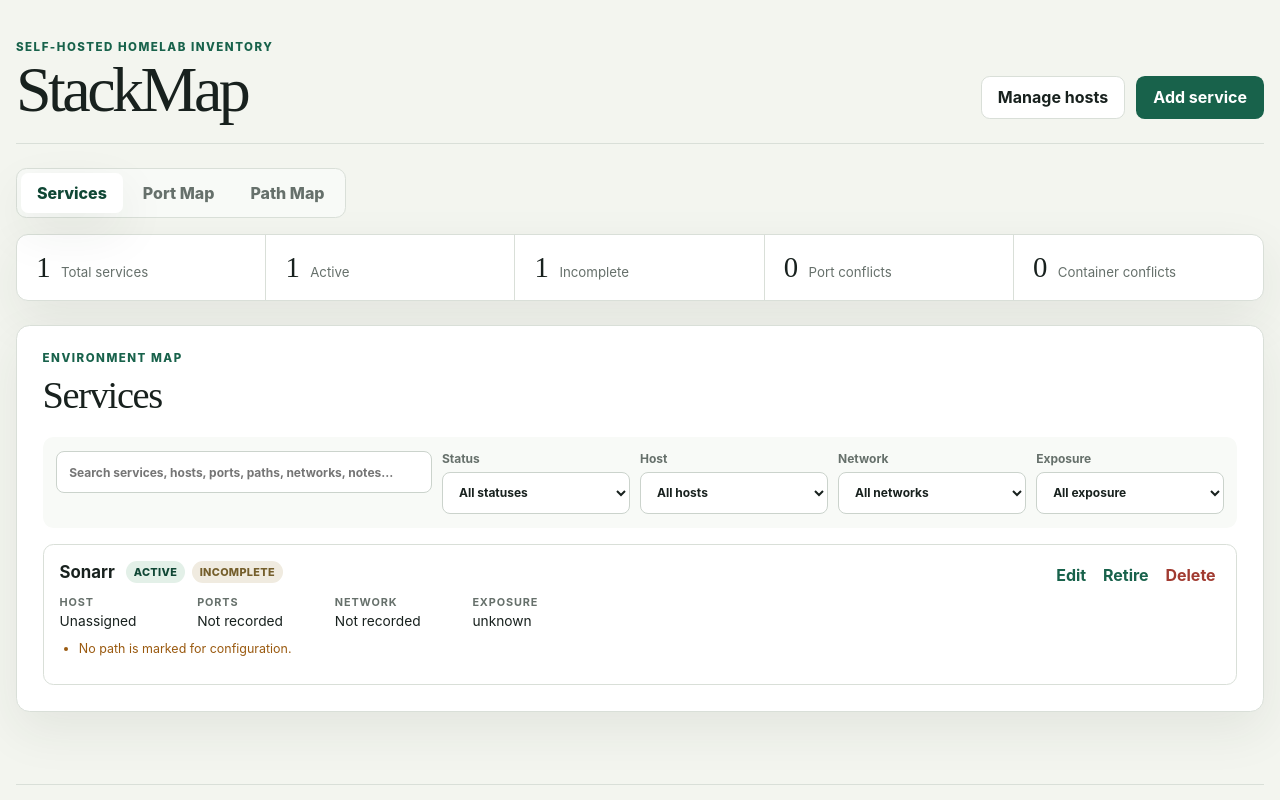
Test: StackMap service workflows › retires a service
This screenshot has width=1280, height=800.
Click the button with aria-label "Retire Sonarr" at (1126, 575), box [1098,560,1153,590]
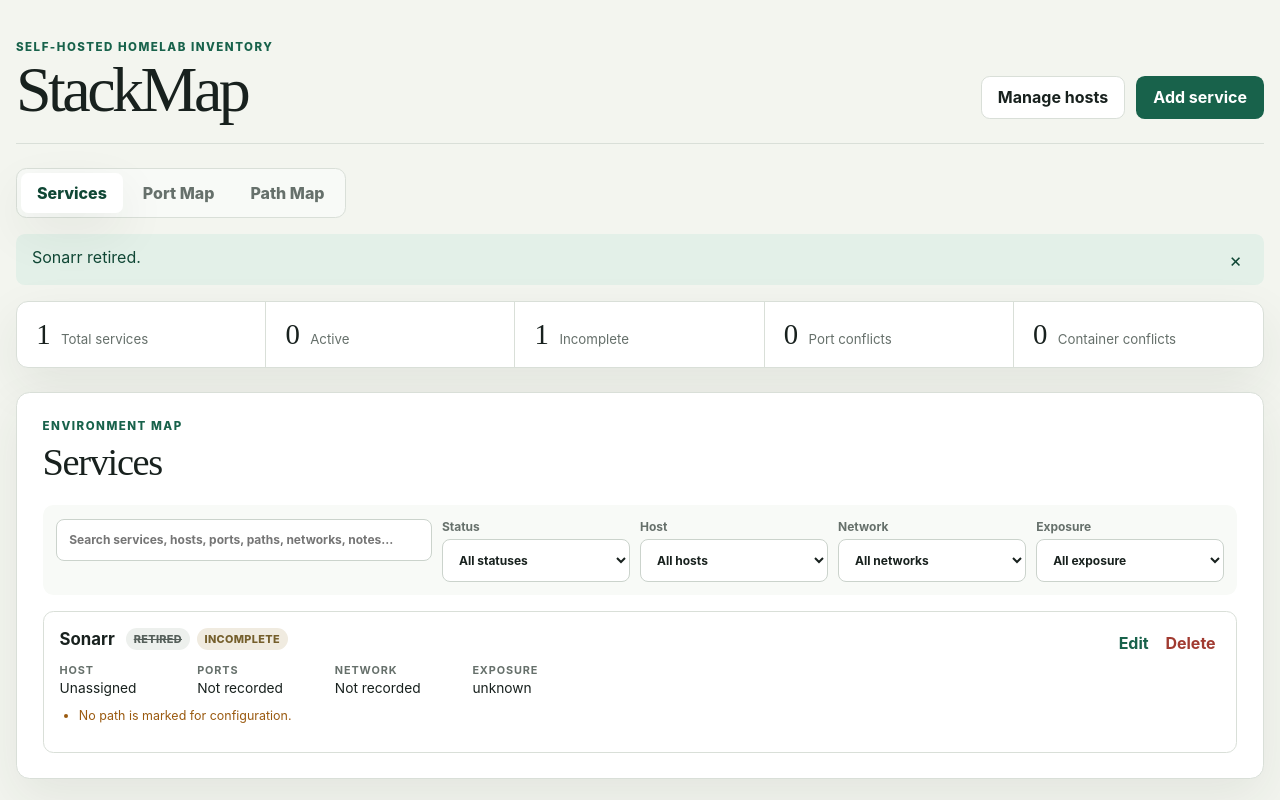
Now the text with class "status-retired" reads "retired", box [134,632,182,646]
Now the message shows "Sonarr retired.", box [32,247,141,267]
